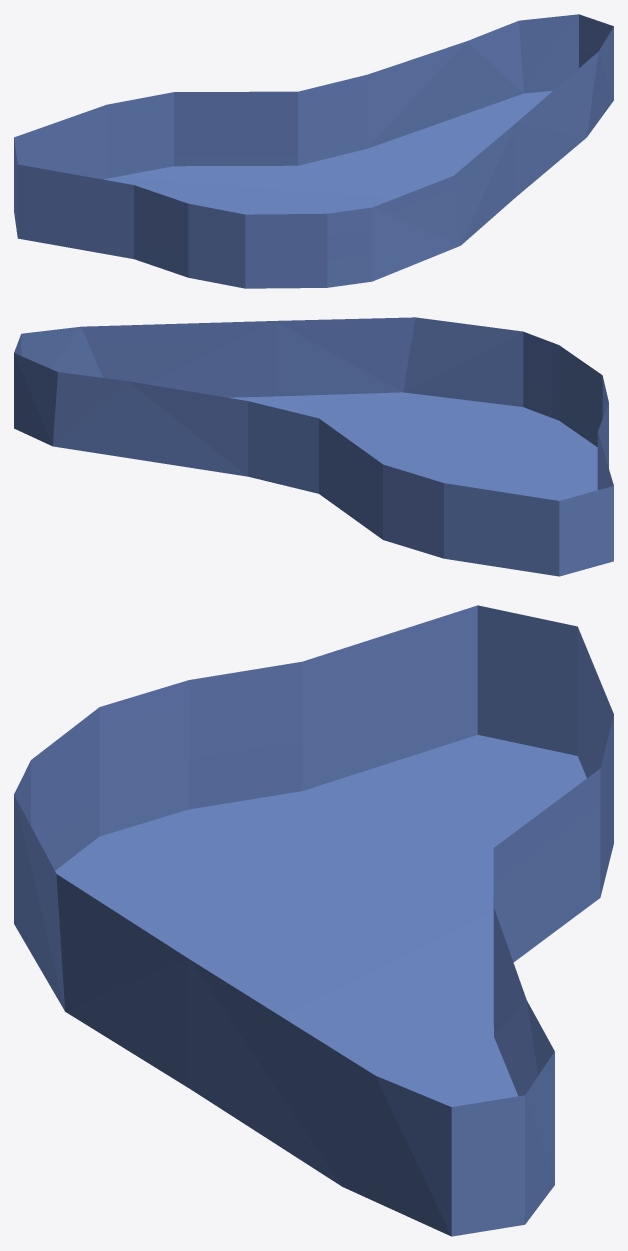
Rendered from sp_ground03.glb.
3 renders of one model, top to bottom at view 1: azimuth 30°, elevation 25°; view 2: azimuth 150°, elevation 25°; view 3: azimuth 270°, elevation 25°, orthographic. The views are drawn at different scales.
Visible parts, largest first — view 1: SP_Ground03; view 2: SP_Ground03; view 3: SP_Ground03.
Part boxes in pixels (left/top/right/bottom): SP_Ground03: left=14, top=14, right=613, bottom=288; SP_Ground03: left=14, top=317, right=613, bottom=576; SP_Ground03: left=14, top=605, right=613, bottom=1236.
Bounding box in the file's own units: 191 × 23 × 96.6.
1 material, 1 textured.
